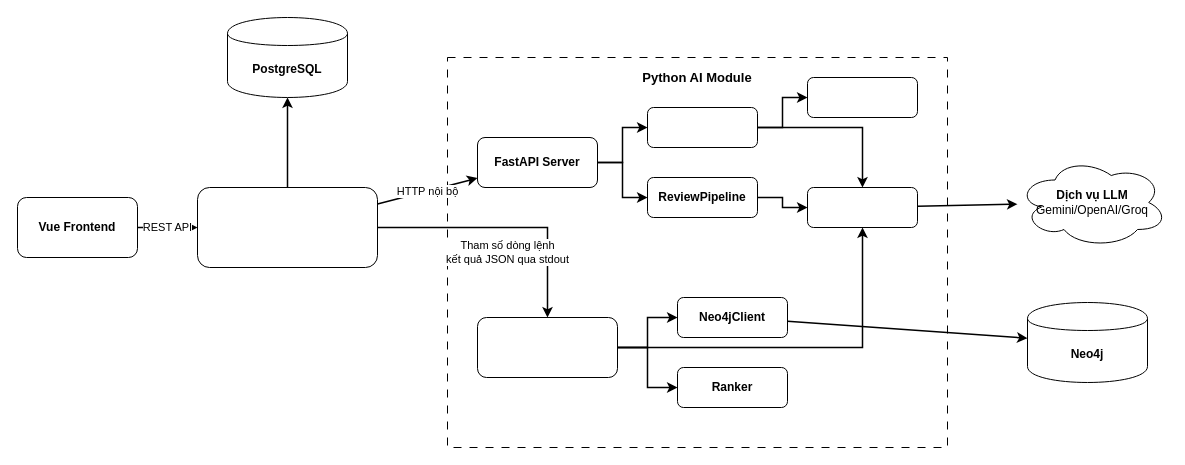
Image size: 1185x465. Some labels were removed from this diagram. Here are the shapes that lost their labels. From the top down, the centre of each, then its label:
the point at 862,97: STT/TTS Adapter
the point at 702,127: TutorPipeline
the point at 287,227: Spring Boot Backend Xác thực, nghiệp vụ, lưu dữ liệu
the point at 862,207: LLMClient
the point at 547,347: Translation Pipeline CLI stateless
